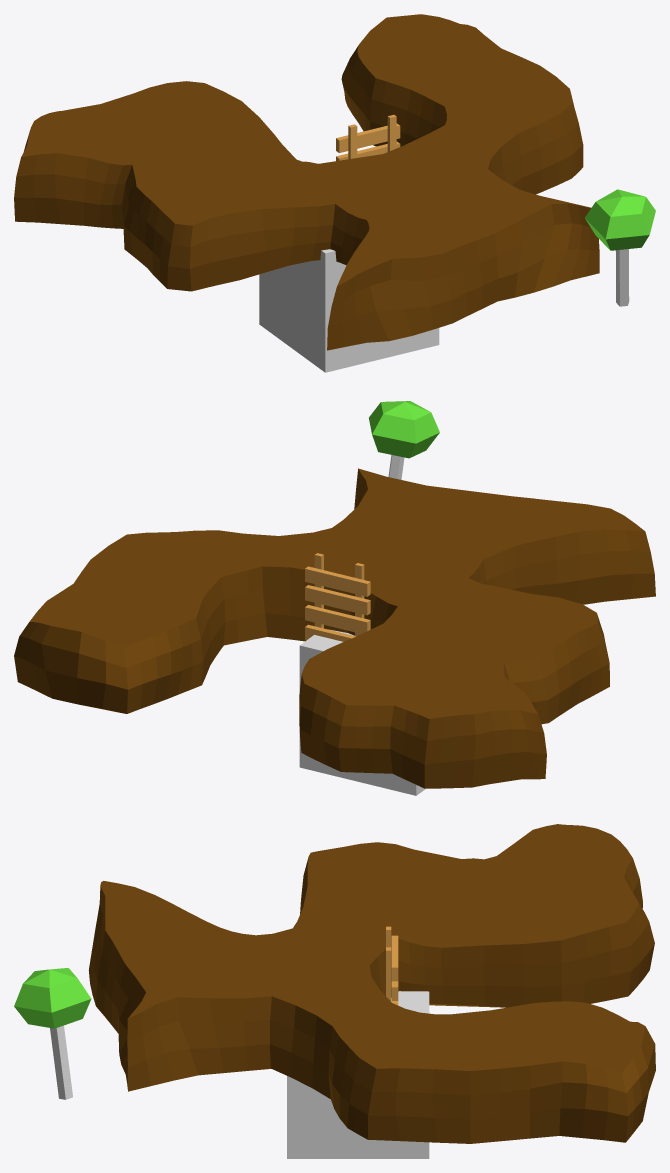
Rendered from testAssets.glb.
3 views of the same model, one above another, from view 1: azimuth 30°, elevation 25°; view 2: azimuth 150°, elevation 25°; view 3: azimuth 270°, elevation 25° (orthographic). The views are drawn at different scales.
Visible parts, largest first — view 1: Digsite, Cube, Tree2.029, diggingWood; view 2: Digsite, diggingWood, Tree2.029, Cube; view 3: Digsite, Cube, Tree2.029, diggingWood.
Boxes of the visible parts, <box> form: Digsite: <box>14,14,599,350</box>; Cube: <box>259,249,439,372</box>; Tree2.029: <box>585,189,655,306</box>; diggingWood: <box>336,114,400,160</box>; Digsite: <box>14,468,655,788</box>; diggingWood: <box>305,553,370,641</box>; Tree2.029: <box>369,401,439,479</box>; Cube: <box>299,629,425,795</box>; Digsite: <box>88,824,655,1143</box>; Cube: <box>287,991,429,1158</box>; Tree2.029: <box>14,968,91,1099</box>; diggingWood: <box>386,926,398,1005</box>.
Bounding box in the file's own units: 8.56 × 3.54 × 9.03.
